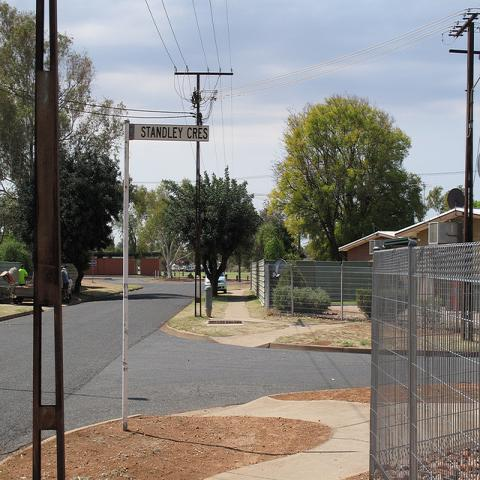car: (204, 272, 227, 294)
